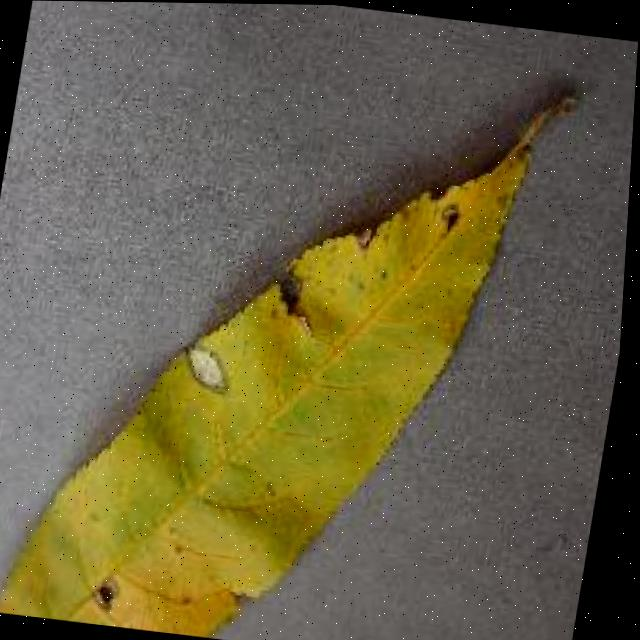Bacterial_spot: (0, 30, 602, 640)
